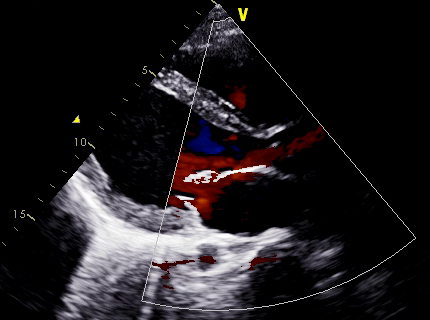AR: (192, 118, 305, 176)
